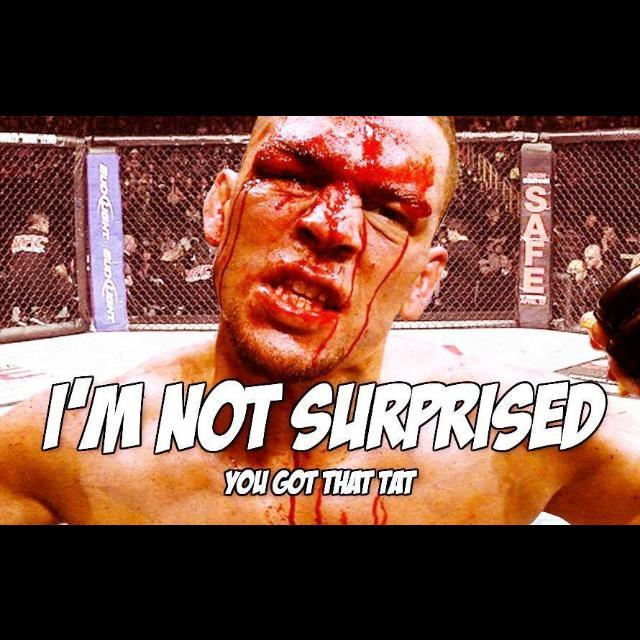blood: (216, 117, 436, 368), (285, 468, 319, 524), (372, 495, 389, 524), (315, 488, 323, 524), (341, 509, 348, 524)
